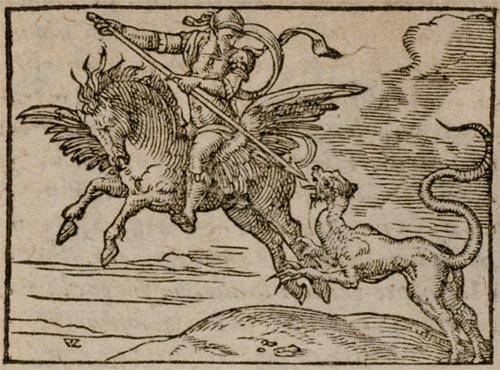horse: (50, 67, 335, 307)
knight: (118, 18, 250, 234)
lance: (87, 7, 310, 181)
